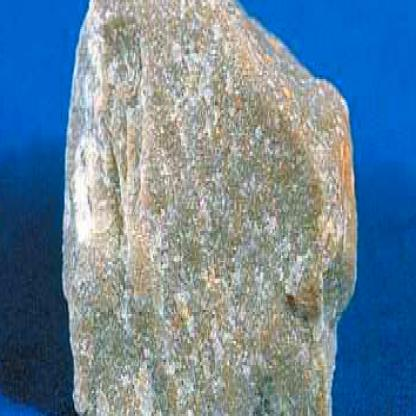Metamorphic_Quartize: (54, 0, 364, 414)
